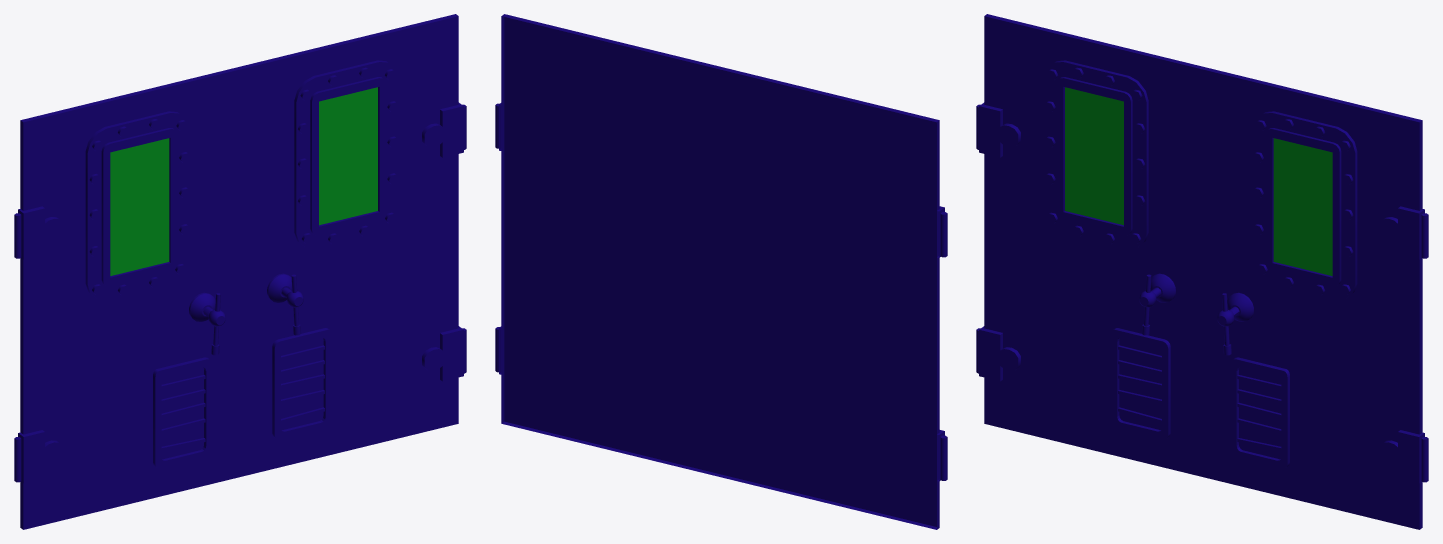
Rendered from Porte_03_4x4x002.FBX.
The picture shows the model from 3 angles, left to right: view 1: azimuth 30°, elevation 25°; view 2: azimuth 150°, elevation 25°; view 3: azimuth 330°, elevation 25°; orthographic projection.
Parts seen in each view (by area): view 1: Porte_03_4x4x002; view 2: Porte_03_4x4x002; view 3: Porte_03_4x4x002.
Part boxes in pixels (x1=…): Porte_03_4x4x002: x1=14, y1=14, x2=466, y2=529; Porte_03_4x4x002: x1=495, y1=14, x2=947, y2=529; Porte_03_4x4x002: x1=976, y1=14, x2=1428, y2=529.
Bounding box in the file's own units: 314 × 272 × 26.08.
